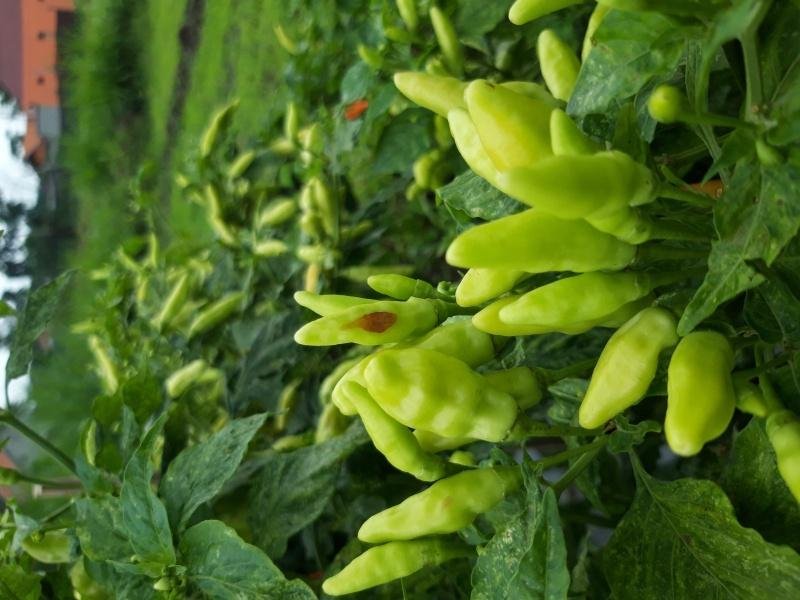antraknosa: (295, 301, 436, 345)
cabai_normal: (368, 347, 518, 441), (578, 304, 678, 431), (445, 209, 644, 270), (354, 466, 506, 544), (342, 381, 440, 485), (664, 327, 734, 457), (392, 70, 560, 124), (492, 153, 652, 209), (498, 272, 640, 330), (322, 543, 424, 596), (539, 31, 584, 102), (771, 417, 800, 496), (369, 273, 415, 297)
